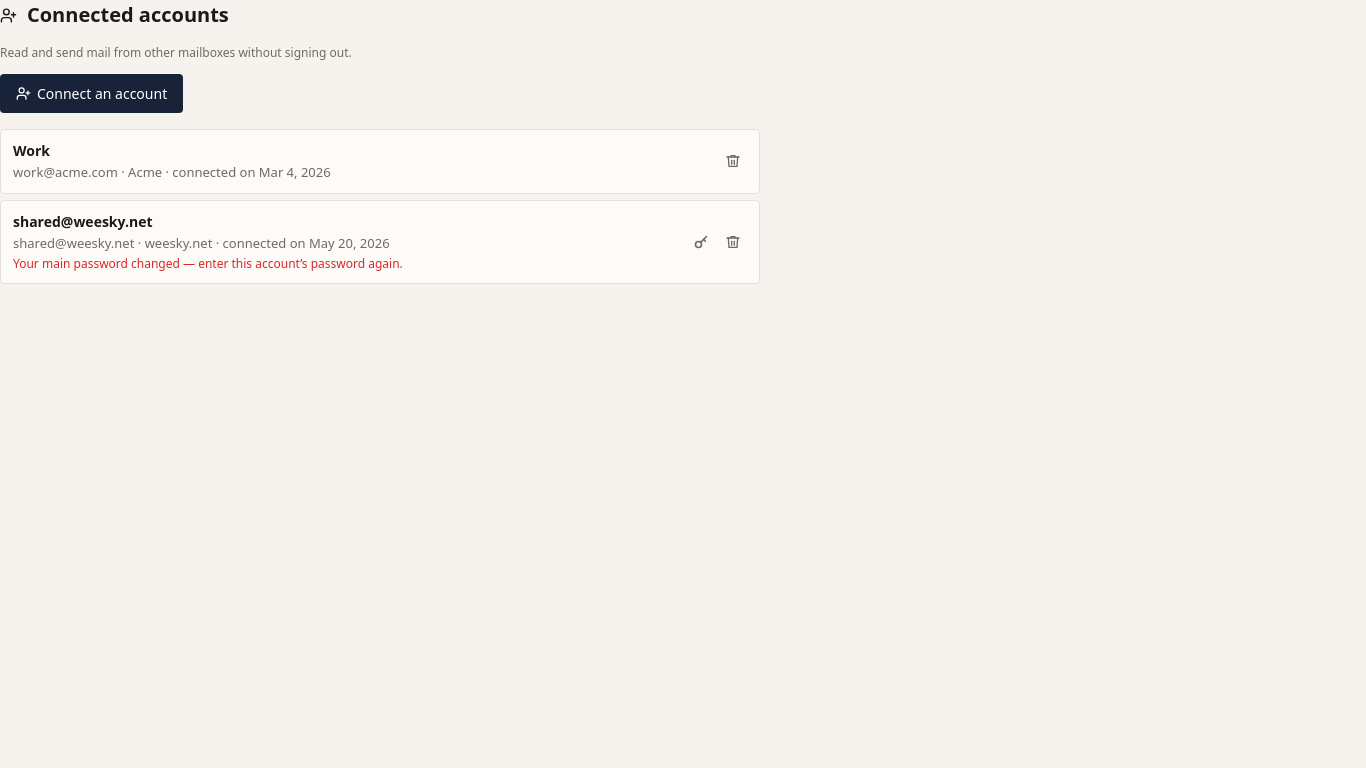
Test case: ConnectedAccountsPage › keeps the password dialog open on a refusal, with the reason
Expected: the text "Work" is shown, [13, 141, 50, 160]
Click the button named "Re-enter the password for shared@weesky.net". click: coordinates (701, 242)
box: [687, 228, 715, 256]
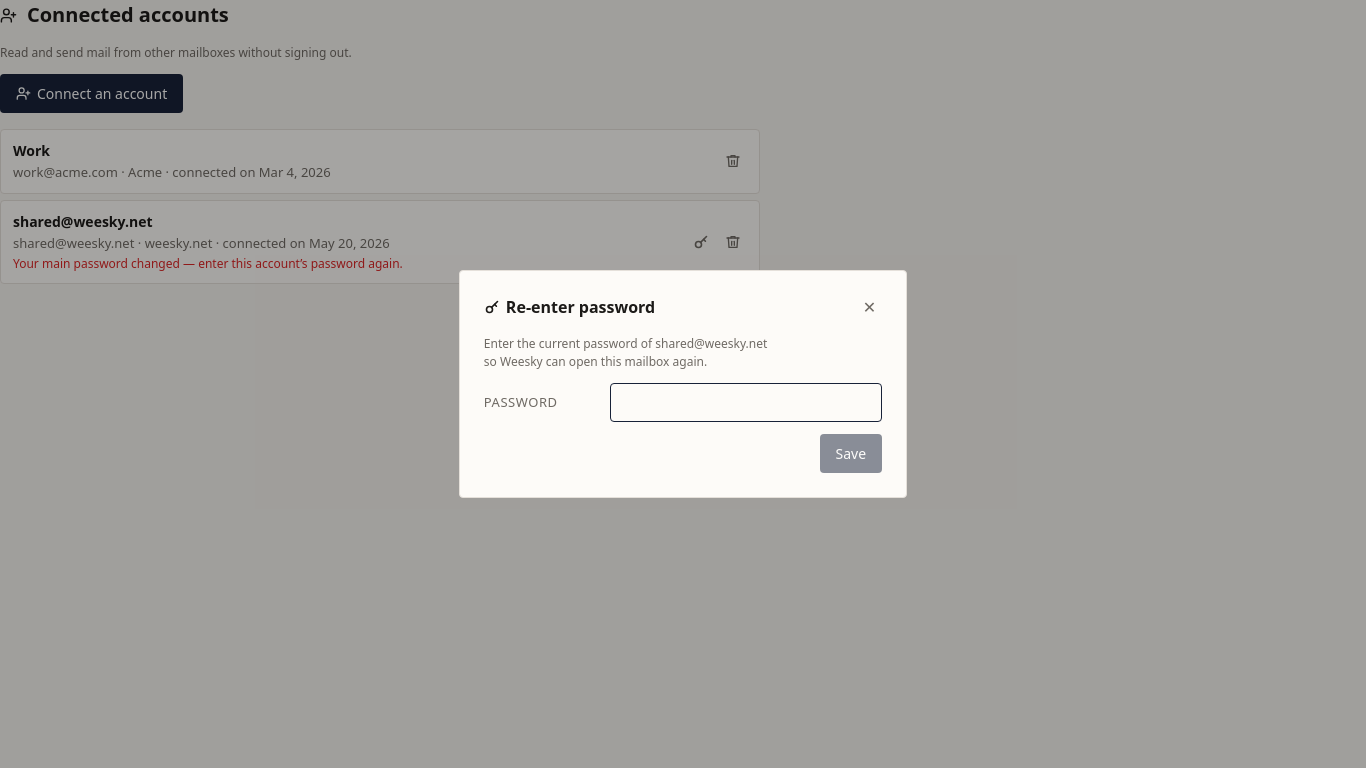
Type "still-wrong" into the password field labelled "Password". click: coordinates (746, 402)
box: [610, 383, 882, 422]
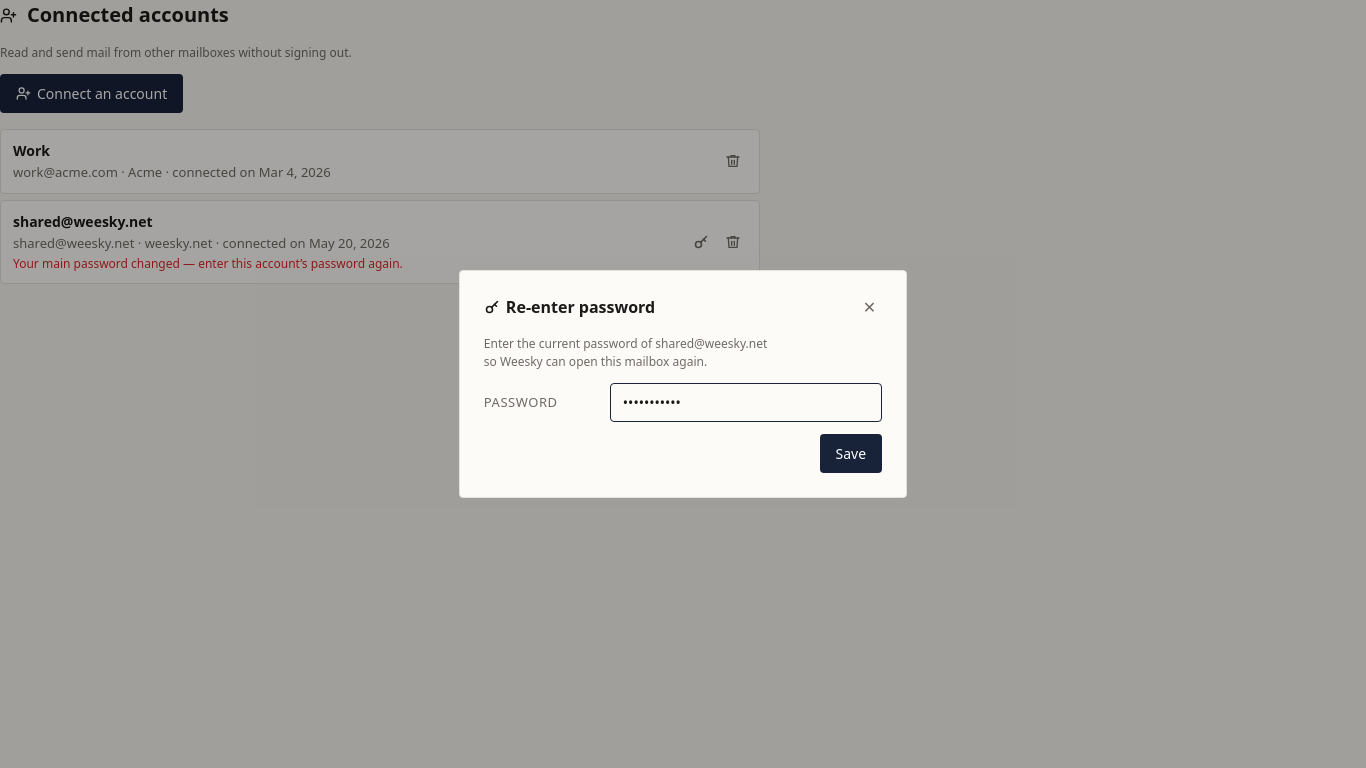
Click the button "Save". click: coordinates (851, 454)
box: [820, 434, 882, 473]
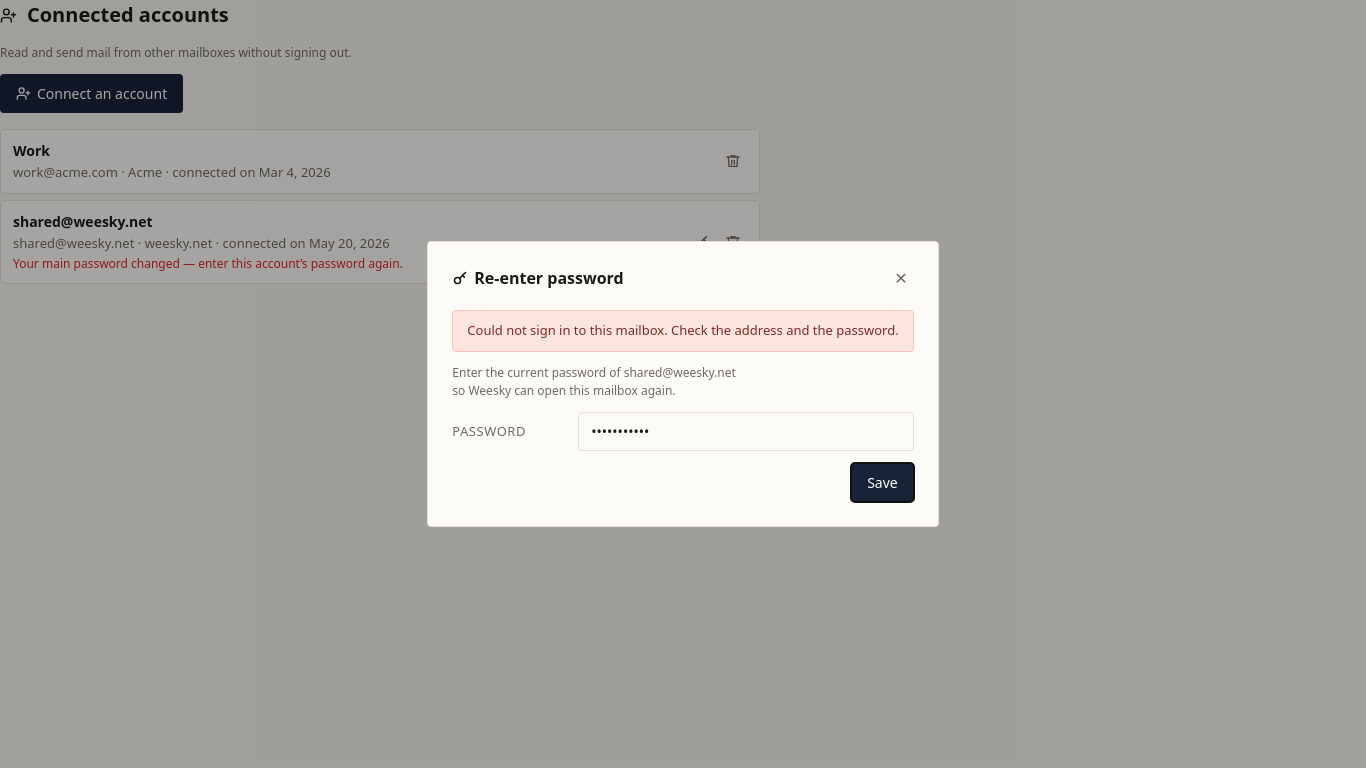
Result: the message reads "Could not sign in to this mailbox. Check the address and the password." at [467, 321, 899, 339]
